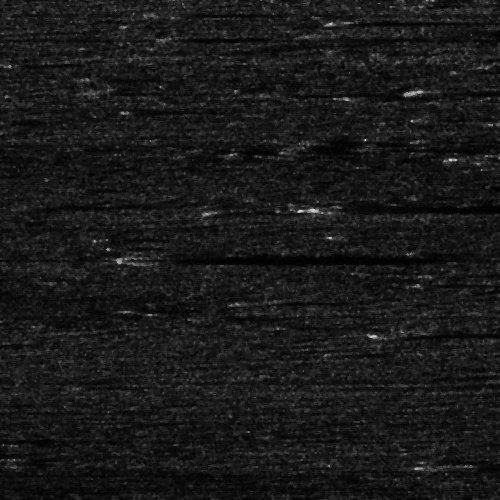object: (71, 250, 216, 261), (422, 150, 500, 163), (140, 35, 223, 40), (405, 462, 478, 467), (378, 331, 441, 336), (405, 87, 458, 92), (129, 9, 170, 14), (329, 18, 360, 21), (492, 118, 500, 127)
shadow: (144, 250, 411, 261), (150, 9, 242, 14), (410, 331, 500, 336), (182, 35, 272, 40), (345, 18, 493, 21), (0, 337, 52, 344), (432, 87, 500, 92), (475, 150, 500, 163), (441, 462, 500, 467)
